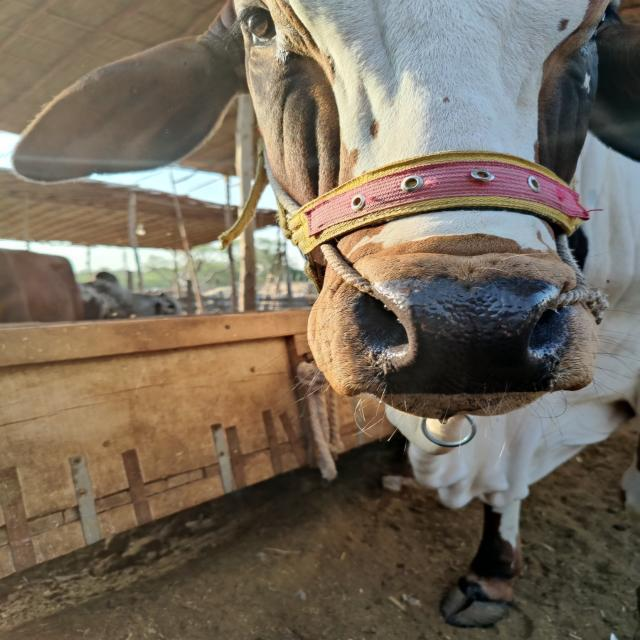muzzles: (339, 264, 586, 408)
